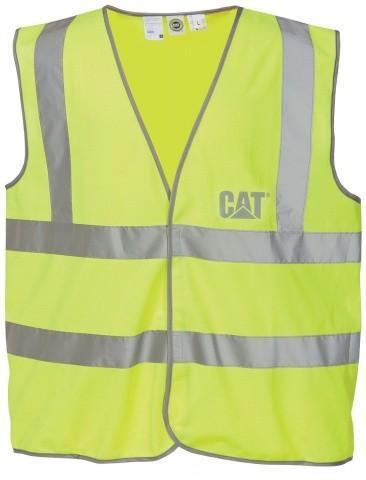vest: (5, 3, 363, 467)
